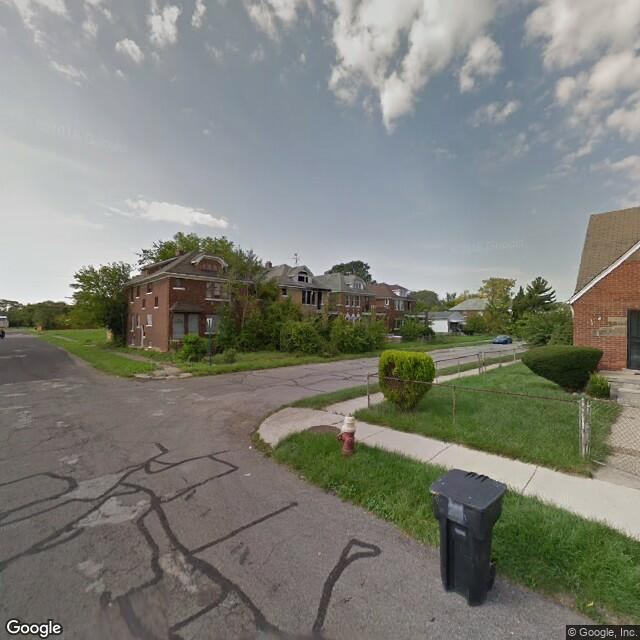litter: (588, 600, 597, 612), (244, 471, 255, 476), (247, 444, 255, 449)
